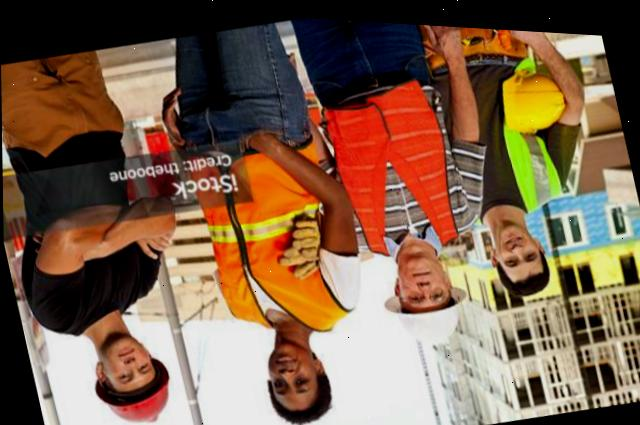helmet: (380, 276, 479, 349), (492, 54, 578, 137), (87, 356, 179, 425)
vest: (171, 120, 366, 351), (314, 71, 470, 264), (478, 34, 570, 210)
